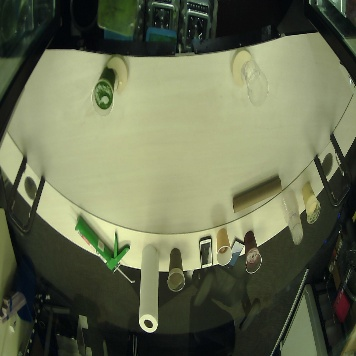empty_cup: (282, 189, 305, 244), (243, 59, 269, 106)
full_cup: (92, 66, 117, 116), (166, 246, 186, 290), (243, 229, 263, 273), (301, 180, 321, 224)
puck: (107, 55, 129, 93), (233, 47, 253, 87)
